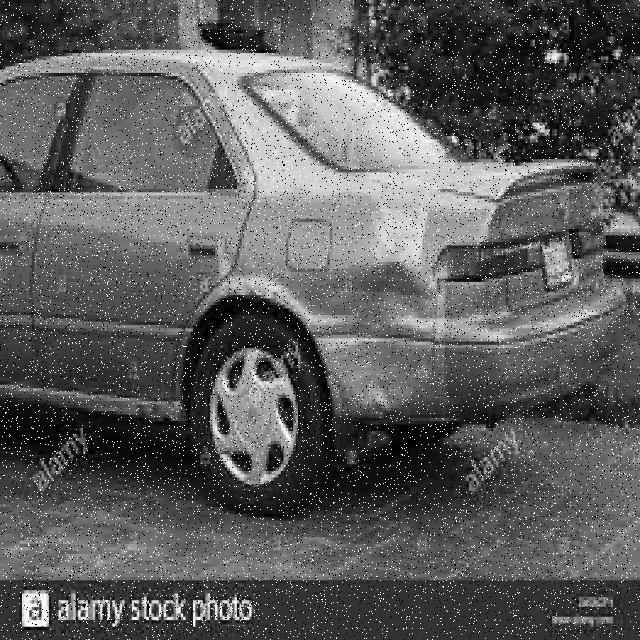Runningboard-Damage: (72, 388, 189, 434)
quaterpanel-dent: (242, 192, 462, 334)
rear-bumper-dent: (316, 339, 553, 442)
